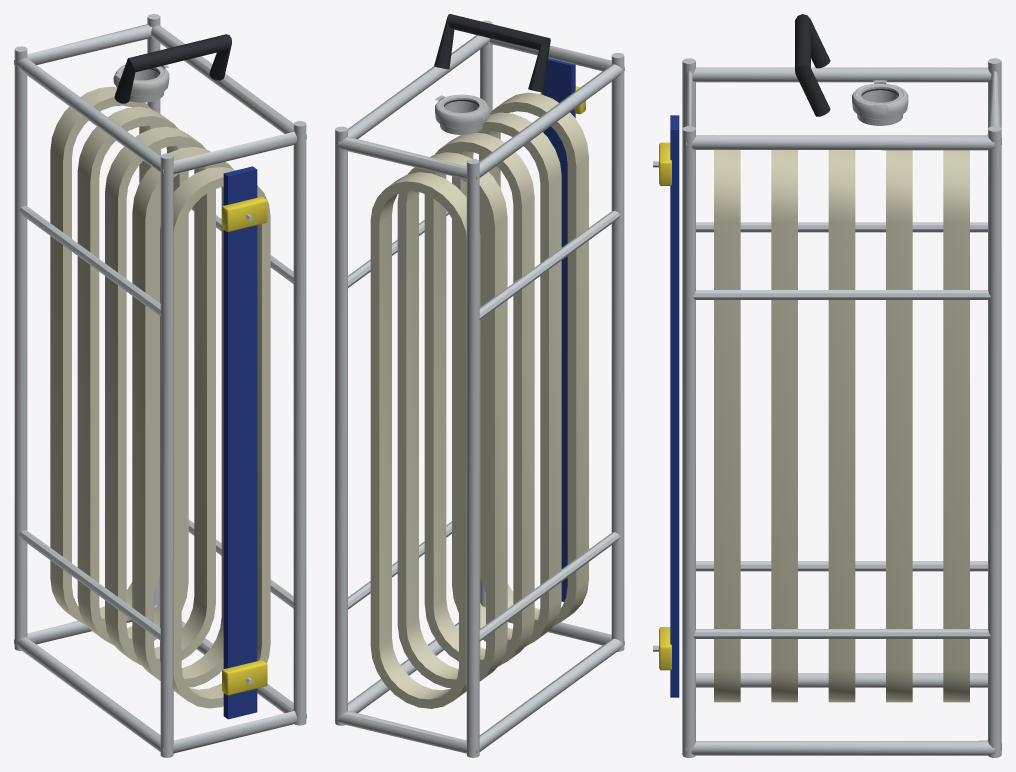
The model's file is hose_basket_3.glb.
3 views of the same model, side by side, from view 1: azimuth 30°, elevation 25°; view 2: azimuth 150°, elevation 25°; view 3: azimuth 270°, elevation 25° (orthographic). The views are drawn at different scales.
Visible parts, largest first — view 1: hose_basket_3; view 2: hose_basket_3; view 3: hose_basket_3.
Boxes of the visible parts, left/top/right/bottom form: hose_basket_3: left=14, top=14, right=306, bottom=757; hose_basket_3: left=335, top=14, right=624, bottom=757; hose_basket_3: left=653, top=14, right=1001, bottom=757.
Bounding box in the file's own units: 0.2167 × 0.936 × 0.4342.
